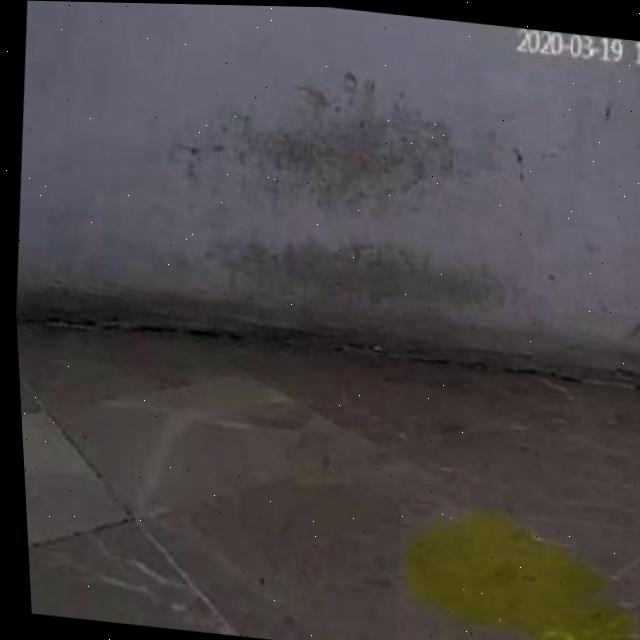spillage: (392, 507, 633, 640)
